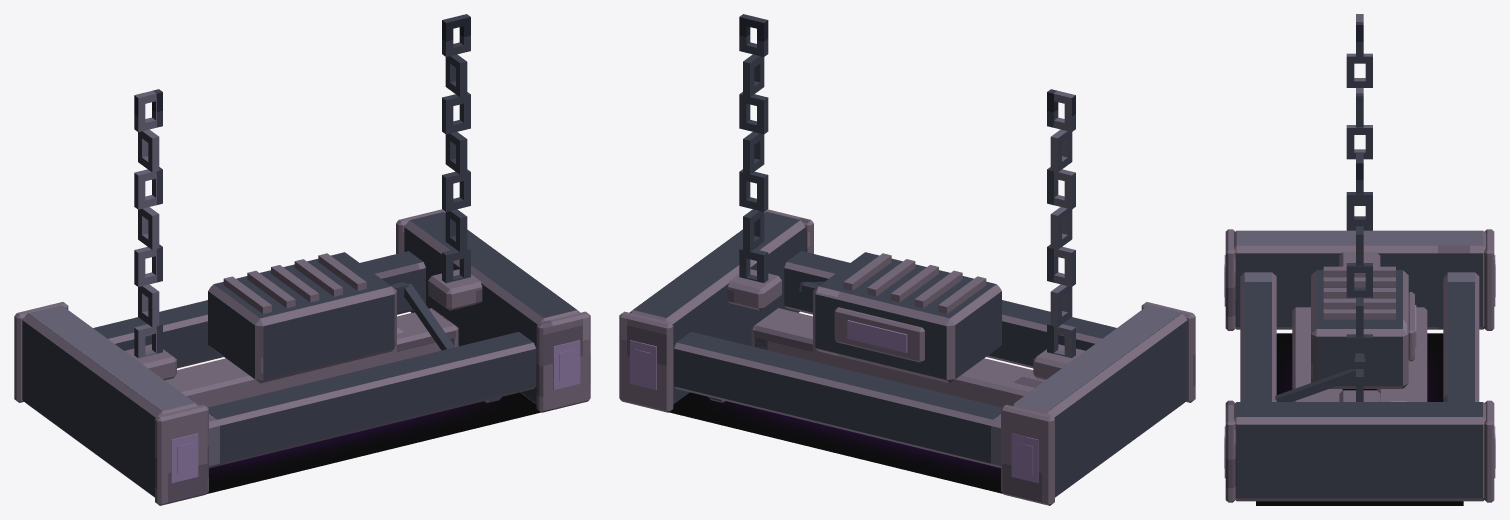
File: uv_twin.obj
The picture shows the model from 3 angles, left to right: view 1: azimuth 30°, elevation 25°; view 2: azimuth 150°, elevation 25°; view 3: azimuth 270°, elevation 25°; orthographic projection. The views are drawn at different scales.
Parts seen in each view (by area): view 1: model; view 2: model; view 3: model.
Boxes of the visible parts, x1=… form: model: x1=14, y1=14, x2=590, y2=505; model: x1=619, y1=14, x2=1195, y2=505; model: x1=1224, y1=14, x2=1495, y2=505.
Bounding box in the file's own units: 0.915 × 0.7256 × 0.5394.
